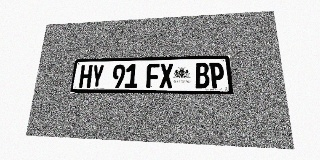1: (124, 64, 138, 88)
9: (112, 64, 126, 88)
B: (195, 63, 210, 88)
F: (146, 64, 160, 88)
H: (79, 65, 93, 88)
P: (209, 62, 225, 88)
X: (160, 63, 173, 88)
Y: (91, 65, 104, 88)
